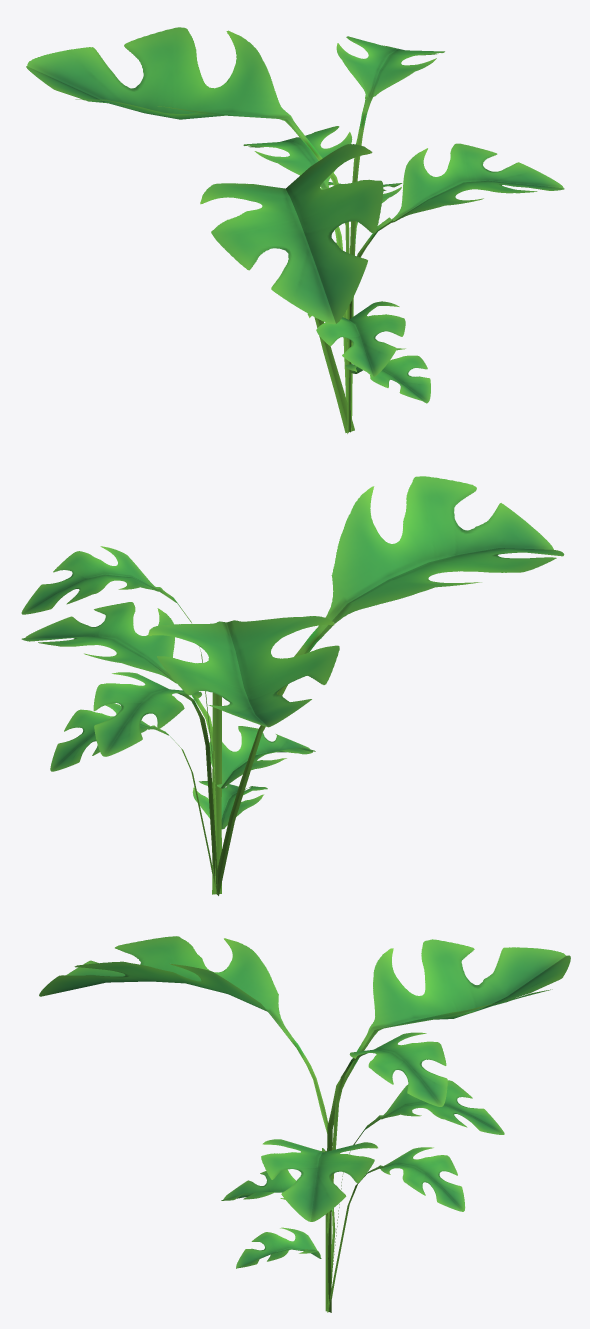
Rendered from Monstera.fbx.
3 views of the same model, one above another, from view 1: azimuth 30°, elevation 25°; view 2: azimuth 150°, elevation 25°; view 3: azimuth 270°, elevation 25° (orthographic). The views are drawn at different scales.
Visible parts, largest first — view 1: MonsteraLeaf.004; view 2: MonsteraLeaf.004; view 3: MonsteraLeaf.004.
Part boxes in pixels (x1,y1,x2,y2): MonsteraLeaf.004: [26, 27, 564, 433]; MonsteraLeaf.004: [21, 476, 564, 895]; MonsteraLeaf.004: [39, 936, 570, 1312].
Bounding box in the file's own units: 135 × 108 × 166.
Materials: 1 (1 with a texture image).
